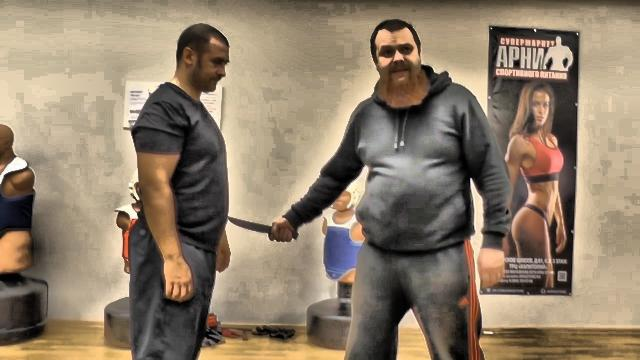knife: (227, 212, 301, 244)
